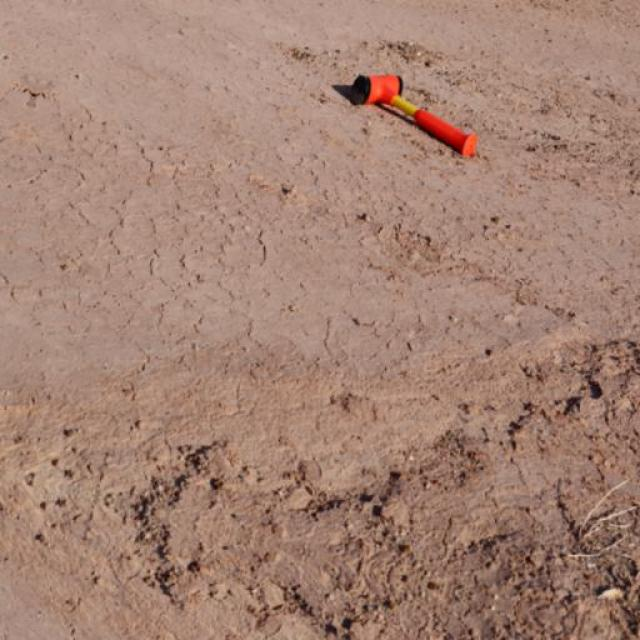mallet: (348, 71, 478, 159)
